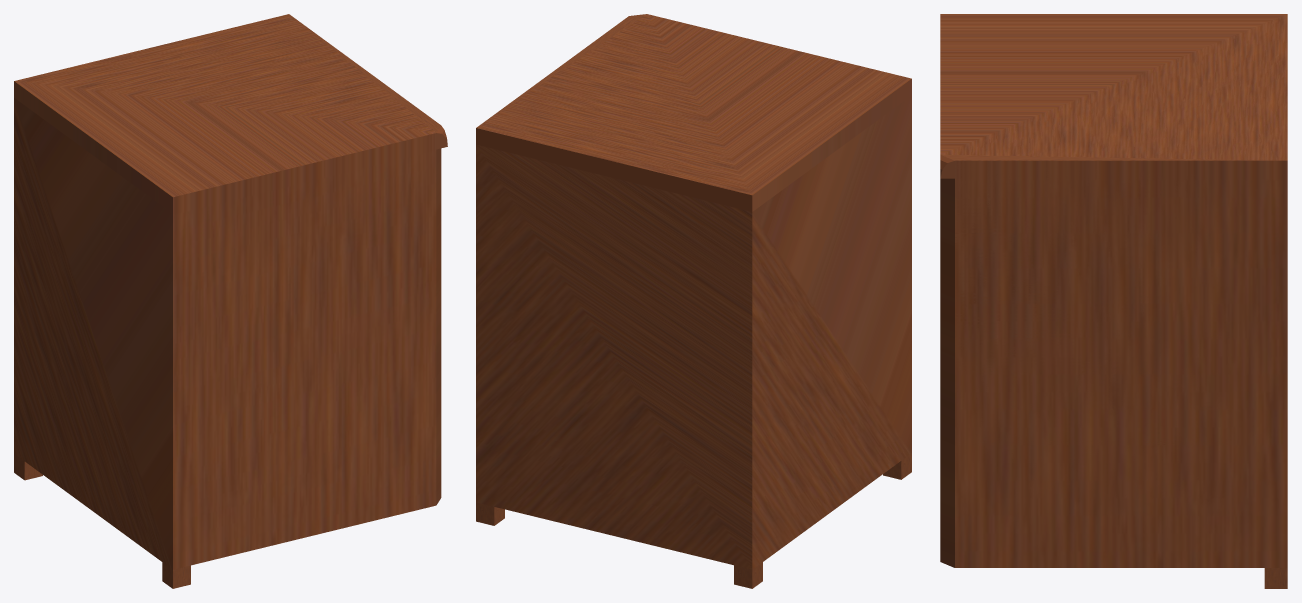
Rendered from Eckschrank.fbx.
The picture shows the model from 3 angles, left to right: view 1: azimuth 30°, elevation 25°; view 2: azimuth 150°, elevation 25°; view 3: azimuth 270°, elevation 25°; orthographic projection. The views are drawn at different scales.
Parts seen in each view (by area): view 1: Eckschrank; view 2: Eckschrank; view 3: Eckschrank.
Part boxes in pixels (x1,y1,x2,y2): Eckschrank: (14,14,447,588); Eckschrank: (476,14,911,588); Eckschrank: (940,14,1287,588).
Size of the model in its own units: 0.658 by 0.8954 by 0.658.
